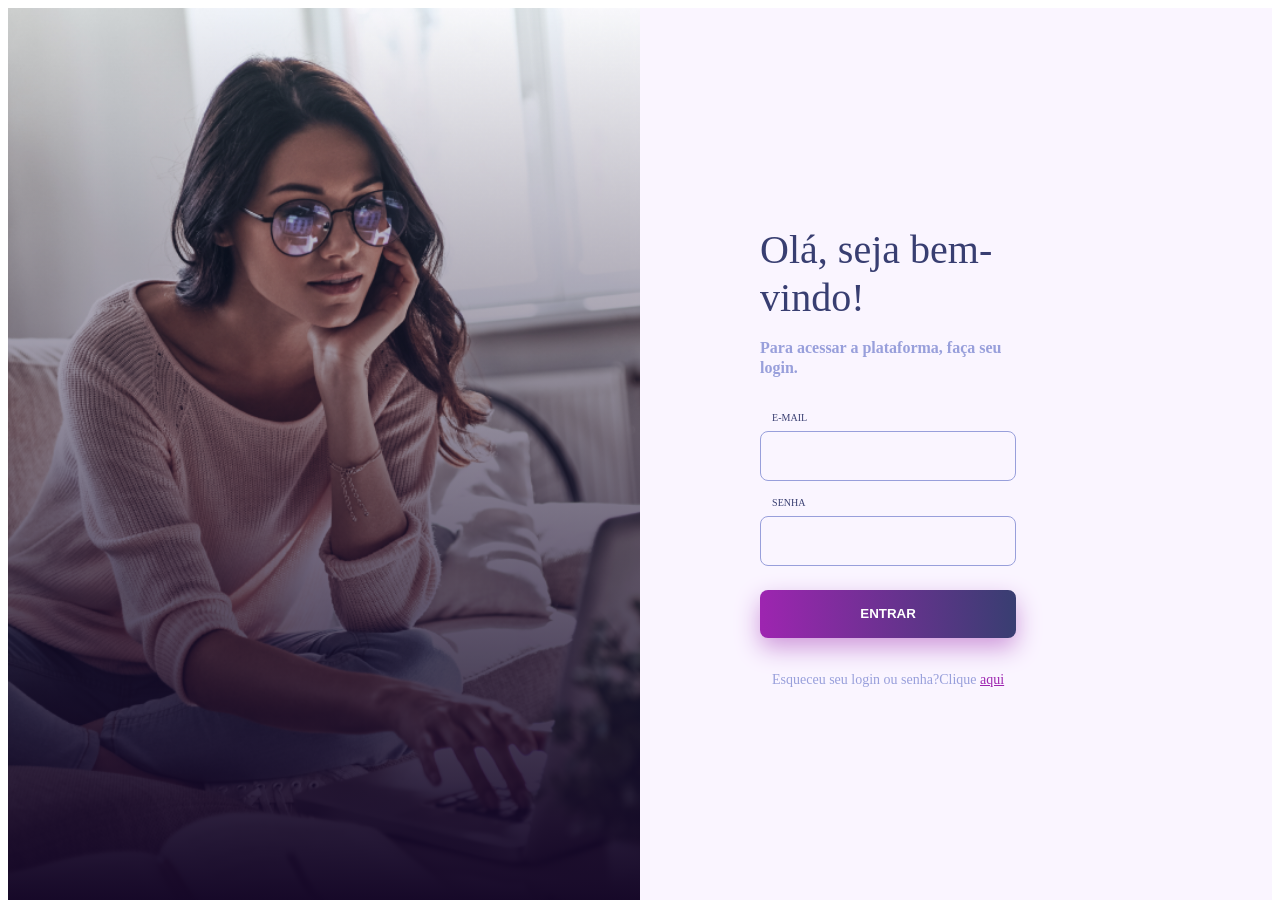
Test case: Login › should be validate email and password
The width and height of the screenshot is (1280, 900).
Type "email" into the field labelled "E-MAIL" at x=888, y=456, box [760,431,1016,481]
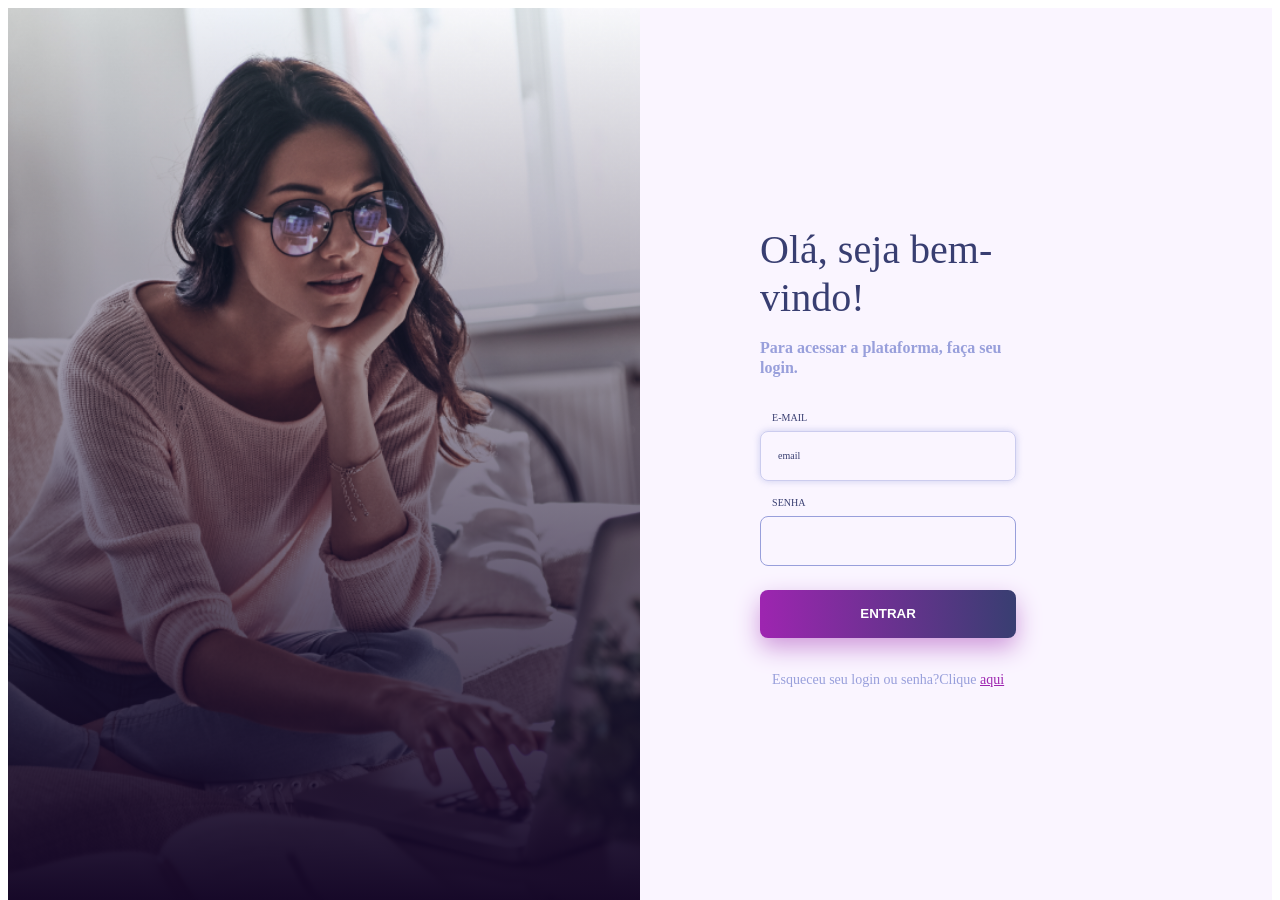
Click the button "ENTRAR" at x=888, y=614, box [760,590,1016,638]
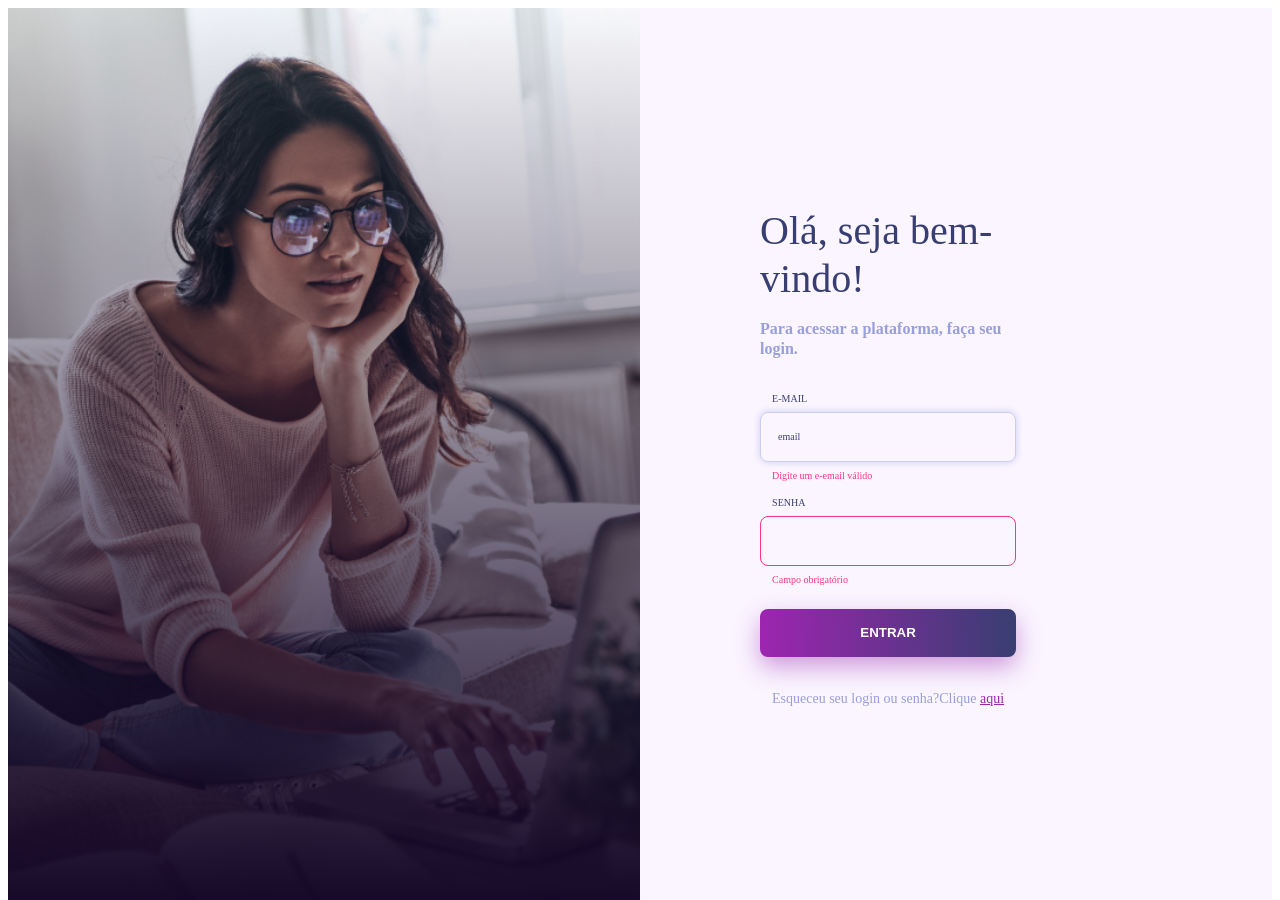
Expected: the text "Digite um e-email válido" is shown, [772,470,872,481]
Expected: the text "Campo obrigatório" is shown, [772,574,848,585]
